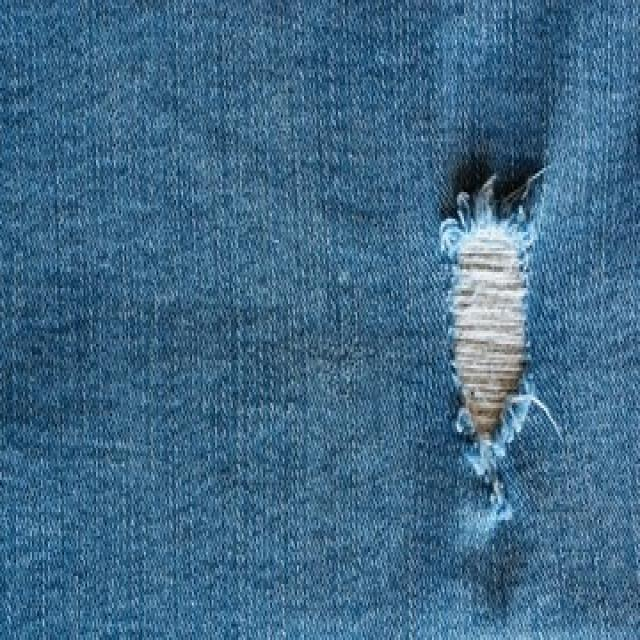Hole: (442, 168, 545, 482)
